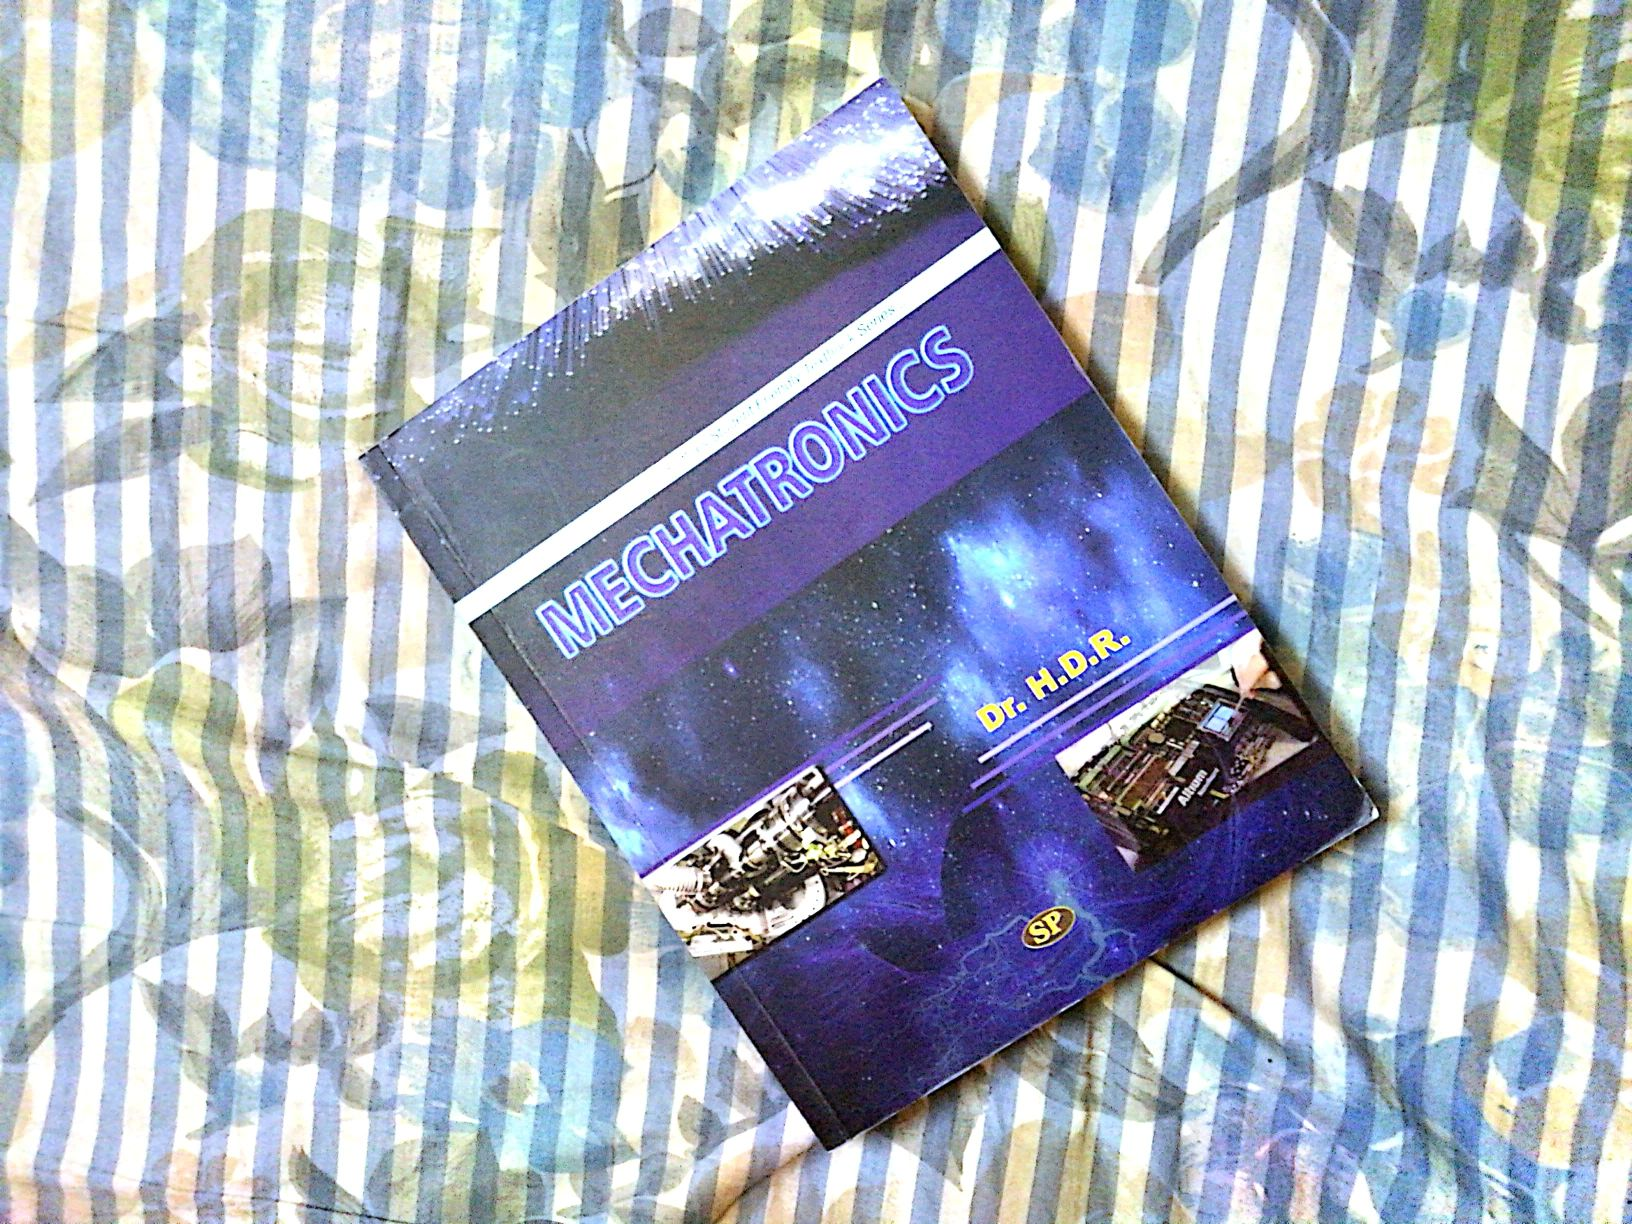mechatronics: (343, 89, 1273, 1104)
